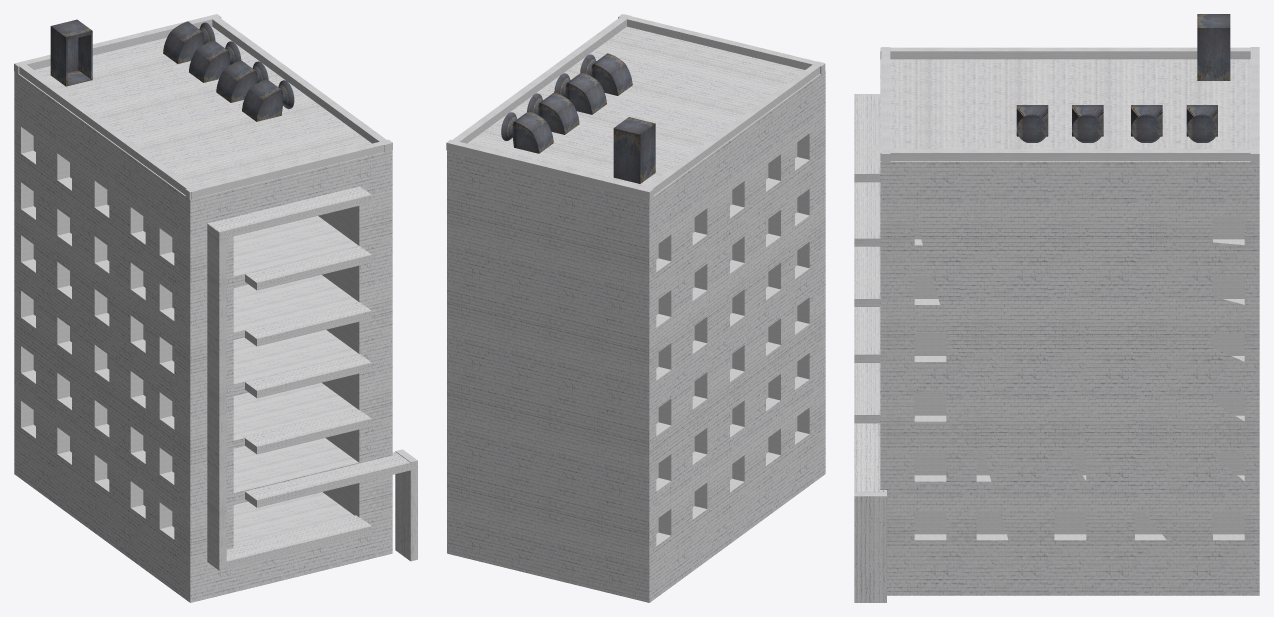
Rendered from bygning 2.fbx.
3 renders of one model, left to right at view 1: azimuth 30°, elevation 25°; view 2: azimuth 150°, elevation 25°; view 3: azimuth 270°, elevation 25°, orthographic. The views are drawn at different scales.
Parts seen in each view (by area): view 1: pasted__group2_pasted__pasted__group1_pasted__pasted__pasted, polySurface61; view 2: pasted__group2_pasted__pasted__group1_pasted__pasted__pasted, polySurface61; view 3: pasted__group2_pasted__pasted__group1_pasted__pasted__pasted, polySurface61.
Boxes of the visible parts, <box> form: pasted__group2_pasted__pasted__group1_pasted__pasted__pasted: <box>14,14,417,602</box>; polySurface61: <box>50,19,294,121</box>; pasted__group2_pasted__pasted__group1_pasted__pasted__pasted: <box>446,14,825,602</box>; polySurface61: <box>501,53,655,183</box>; pasted__group2_pasted__pasted__group1_pasted__pasted__pasted: <box>854,47,1259,602</box>; polySurface61: <box>1016,14,1230,142</box>.
Size of the model in its own units: 29.83 by 59.88 by 45.14.
Materials: 2 (2 with a texture image).
